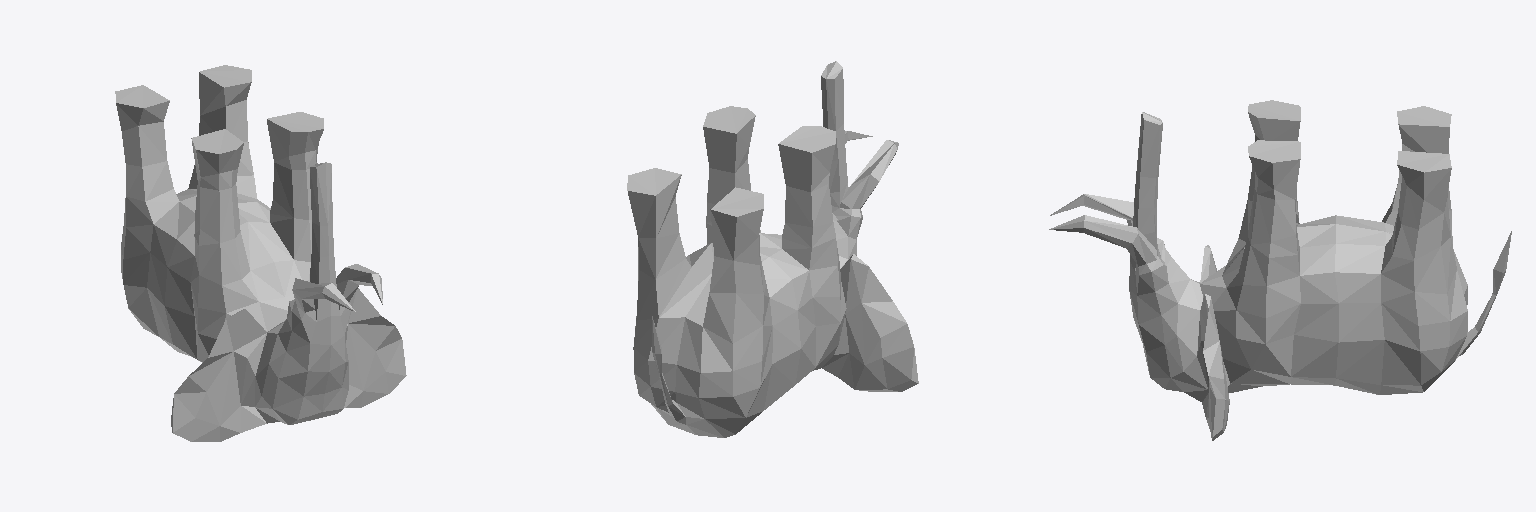
The model's file is elephant1.obj.
3 renders of one model, left to right at view 1: azimuth 30°, elevation 25°; view 2: azimuth 150°, elevation 25°; view 3: azimuth 270°, elevation 25°, orthographic.
Size of the model in its own units: 0.0382 by 0.045 by 0.0656.